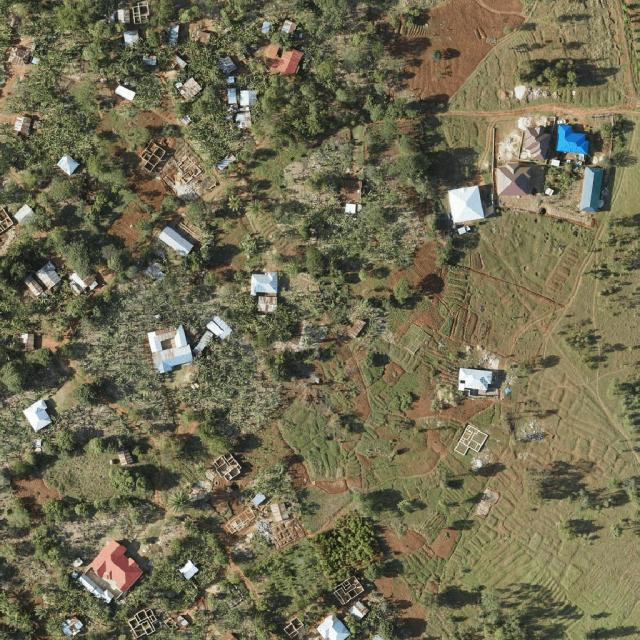building: (182, 444, 319, 576), (482, 96, 613, 225), (126, 291, 234, 387), (134, 126, 219, 214), (76, 538, 149, 611), (17, 252, 102, 302), (221, 52, 266, 133), (331, 571, 383, 623), (151, 222, 198, 264), (247, 268, 285, 319), (154, 223, 199, 262), (447, 184, 488, 225), (270, 40, 312, 78), (577, 165, 604, 215), (22, 397, 57, 435), (556, 123, 594, 155), (11, 112, 41, 142), (277, 14, 305, 42), (254, 13, 280, 39), (56, 151, 82, 177)
